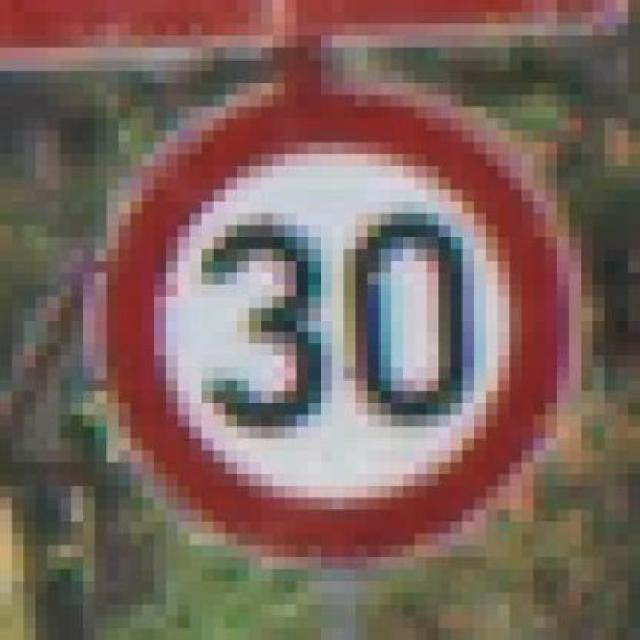Speed Limit 30 KMPh: (59, 71, 616, 592)
